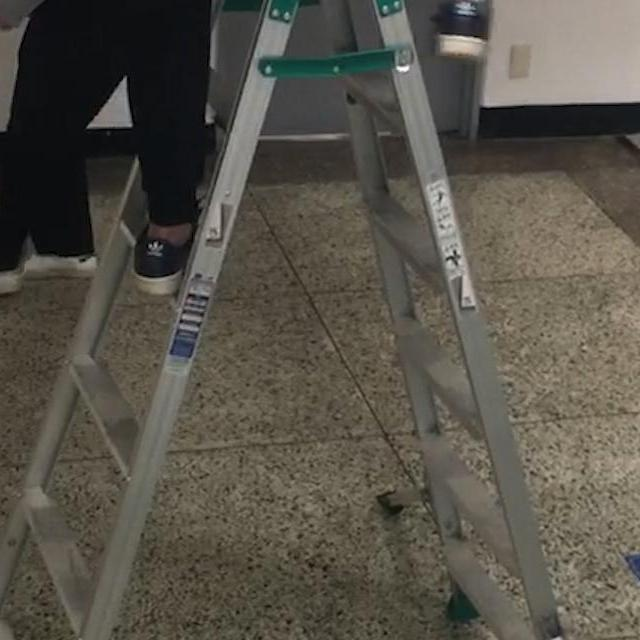Ladder: (0, 0, 640, 640)
Person: (52, 0, 492, 297), (0, 0, 128, 294)
